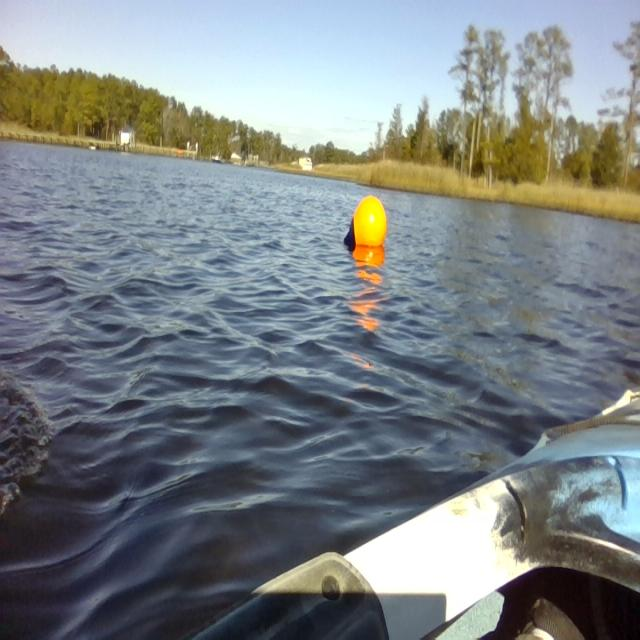Buoy: (341, 188, 392, 267)
